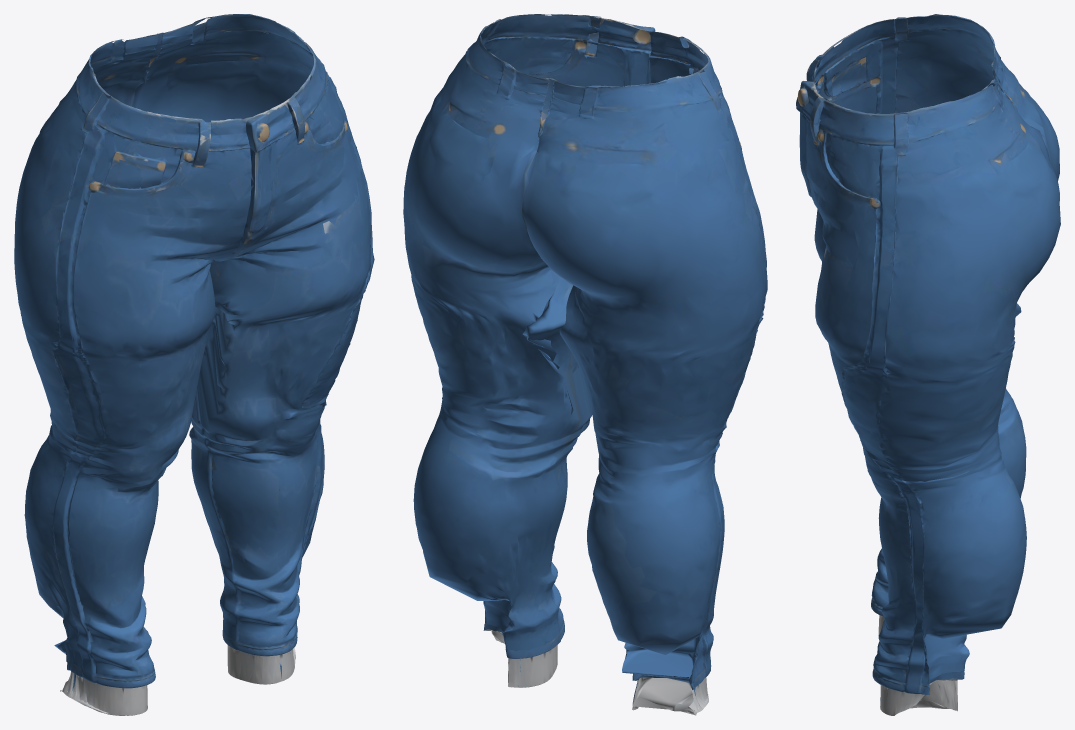
File: bottom_f_jeans.glb
The picture shows the model from 3 angles, left to right: view 1: azimuth 30°, elevation 25°; view 2: azimuth 150°, elevation 25°; view 3: azimuth 270°, elevation 25°; orthographic projection. The views are drawn at different scales.
Parts seen in each view (by area): view 1: f_jeans; view 2: f_jeans; view 3: f_jeans.
Part boxes in pixels (x1,y1,x2,y2): f_jeans: (14,14,374,715); f_jeans: (403,14,767,715); f_jeans: (796,14,1060,715).
Size of the model in its own units: 0.5105 by 0.9336 by 0.3576.
1 material, 1 textured.
